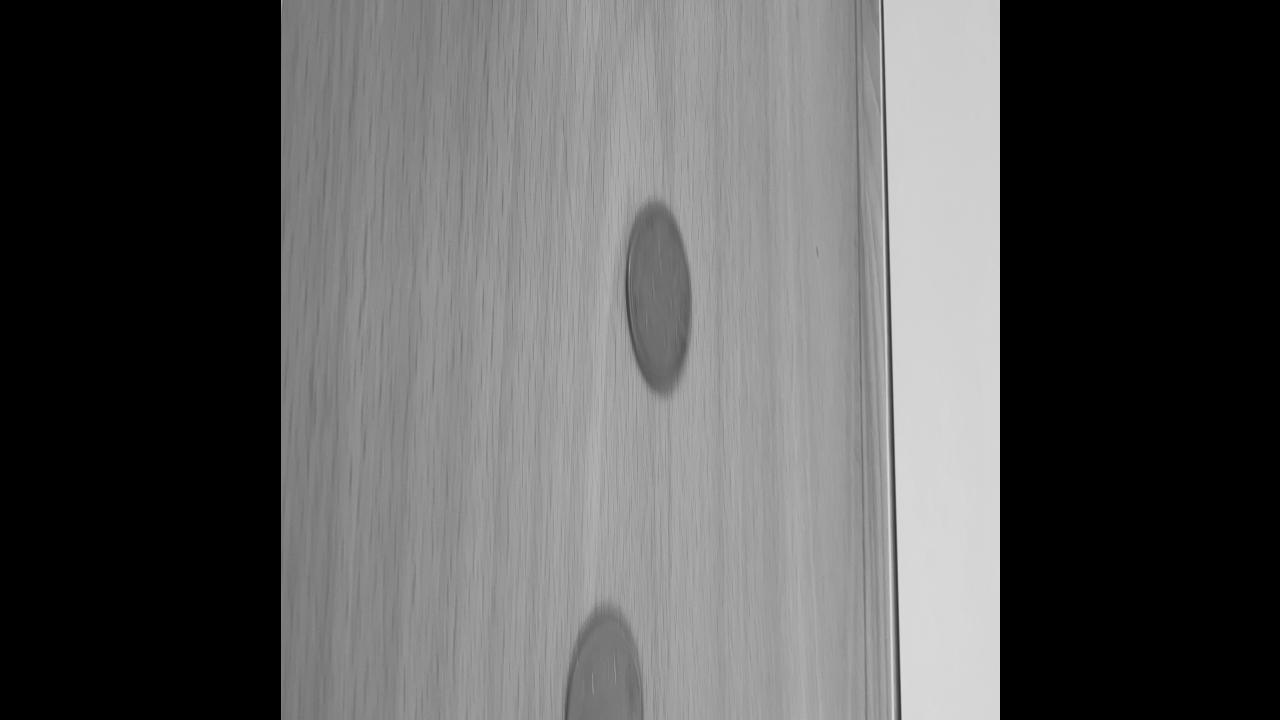coin: (623, 196, 693, 396), (561, 601, 645, 720)
